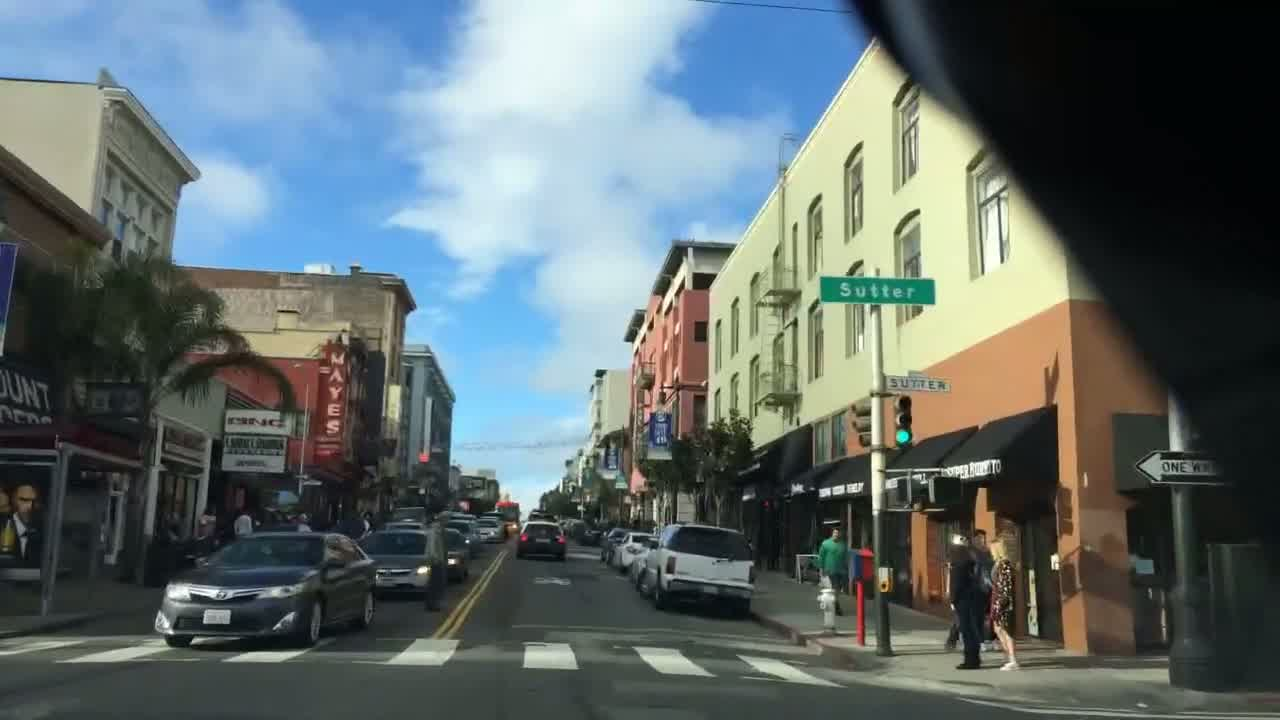car: (152, 529, 378, 648), (637, 522, 754, 614), (357, 528, 447, 602), (609, 530, 658, 573), (515, 519, 565, 560), (444, 526, 472, 583), (475, 515, 505, 544)
pedestrian: (946, 533, 984, 670), (988, 540, 1021, 672), (817, 526, 849, 617), (422, 509, 450, 613)
